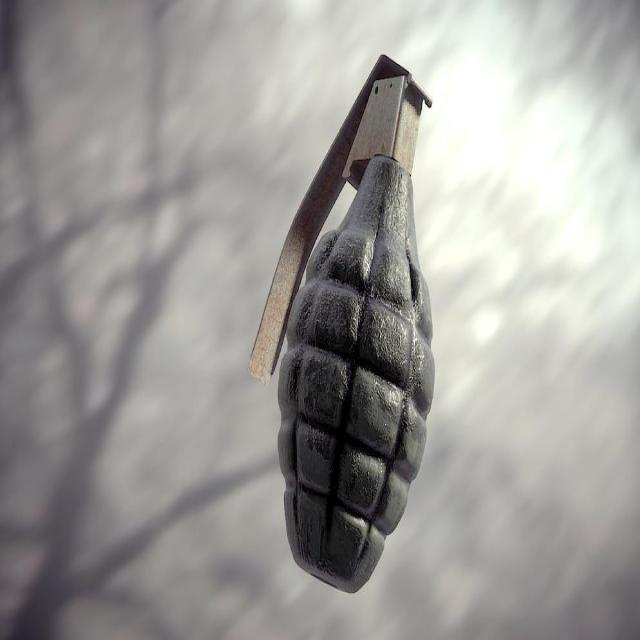grenade: (247, 55, 437, 595)
